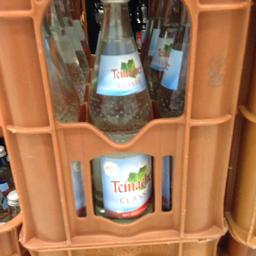water: (81, 0, 154, 223)
